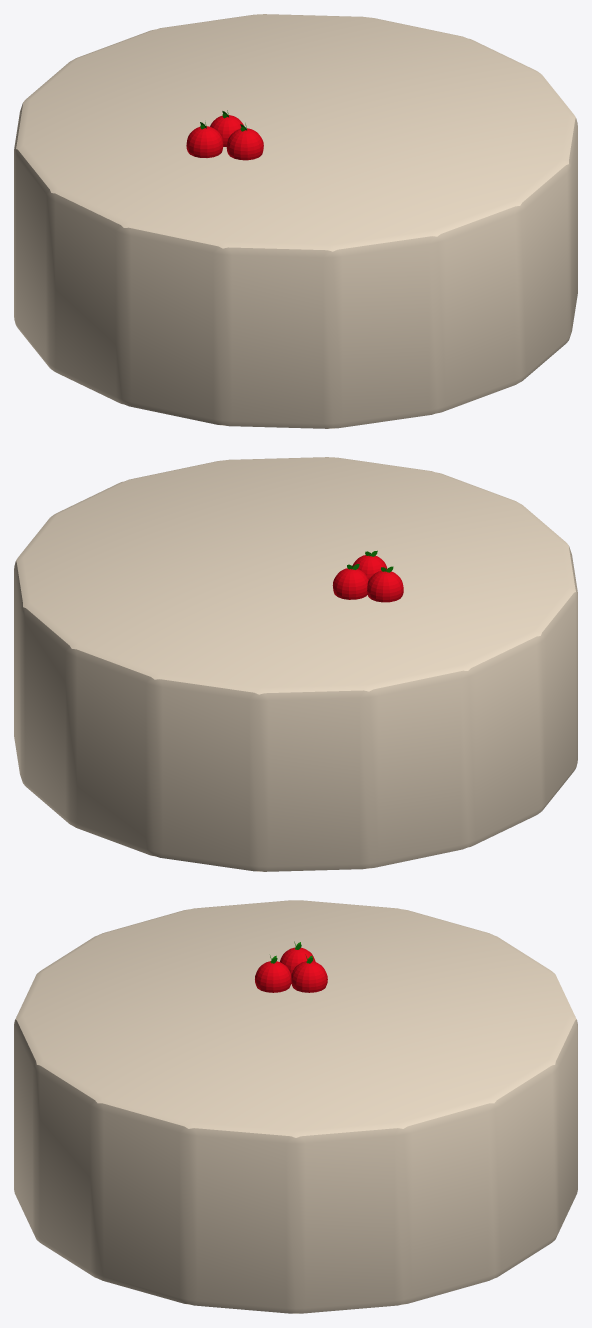
File: bolo.glb
3 renders of one model, top to bottom at view 1: azimuth 30°, elevation 25°; view 2: azimuth 150°, elevation 25°; view 3: azimuth 270°, elevation 25°, orthographic.
Visible parts, largest first — view 1: Cilindro, Plano.003, Plano.002, Plano.001; view 2: Cilindro, Plano.002, Plano.001, Plano.003; view 3: Cilindro, Plano.003, Plano.001, Plano.002.
Part boxes in pixels (box(x1,y1,x2,y2)): Cilindro: box(14, 14, 577, 428); Plano.003: box(226, 123, 263, 160); Plano.002: box(186, 122, 223, 157); Plano.001: box(210, 110, 243, 146); Cilindro: box(14, 457, 577, 871); Plano.002: box(367, 566, 403, 602); Plano.001: box(332, 564, 368, 599); Plano.003: box(352, 550, 387, 579); Cilindro: box(14, 900, 577, 1313); Plano.003: box(255, 955, 291, 992); Plano.001: box(291, 954, 327, 992); Plano.002: box(280, 941, 315, 974).
Size of the model in its own units: 2.35 by 0.9709 by 2.35.
